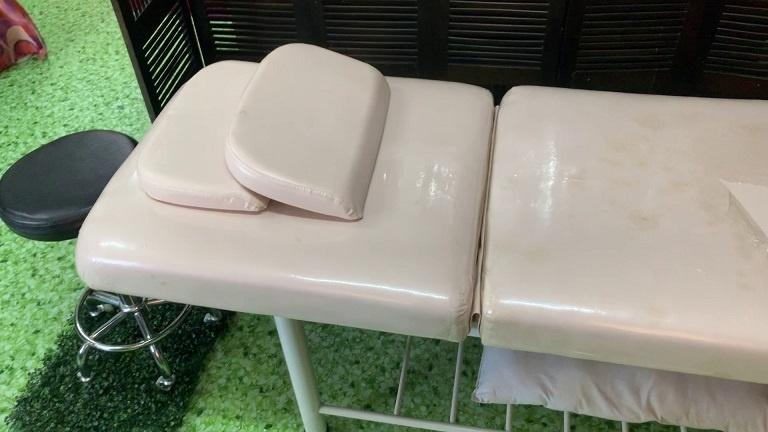bed: (88, 74, 768, 432)
chair: (4, 129, 232, 396)
